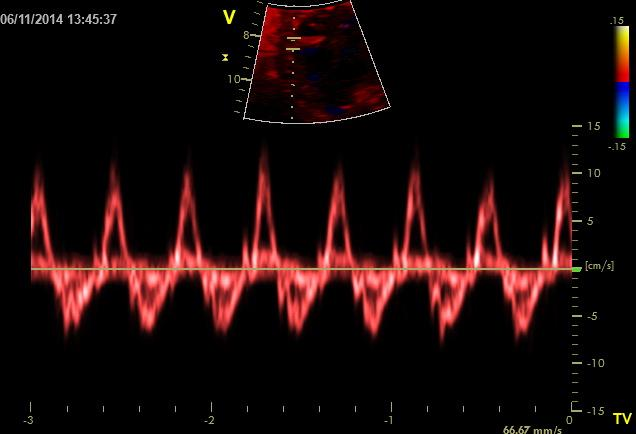Ultrasound-Waves: (32, 136, 571, 395)
